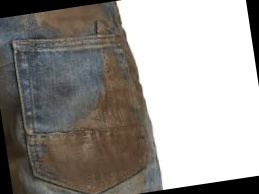earth: (44, 120, 143, 186), (101, 66, 131, 125), (47, 4, 103, 31), (89, 106, 108, 127)
